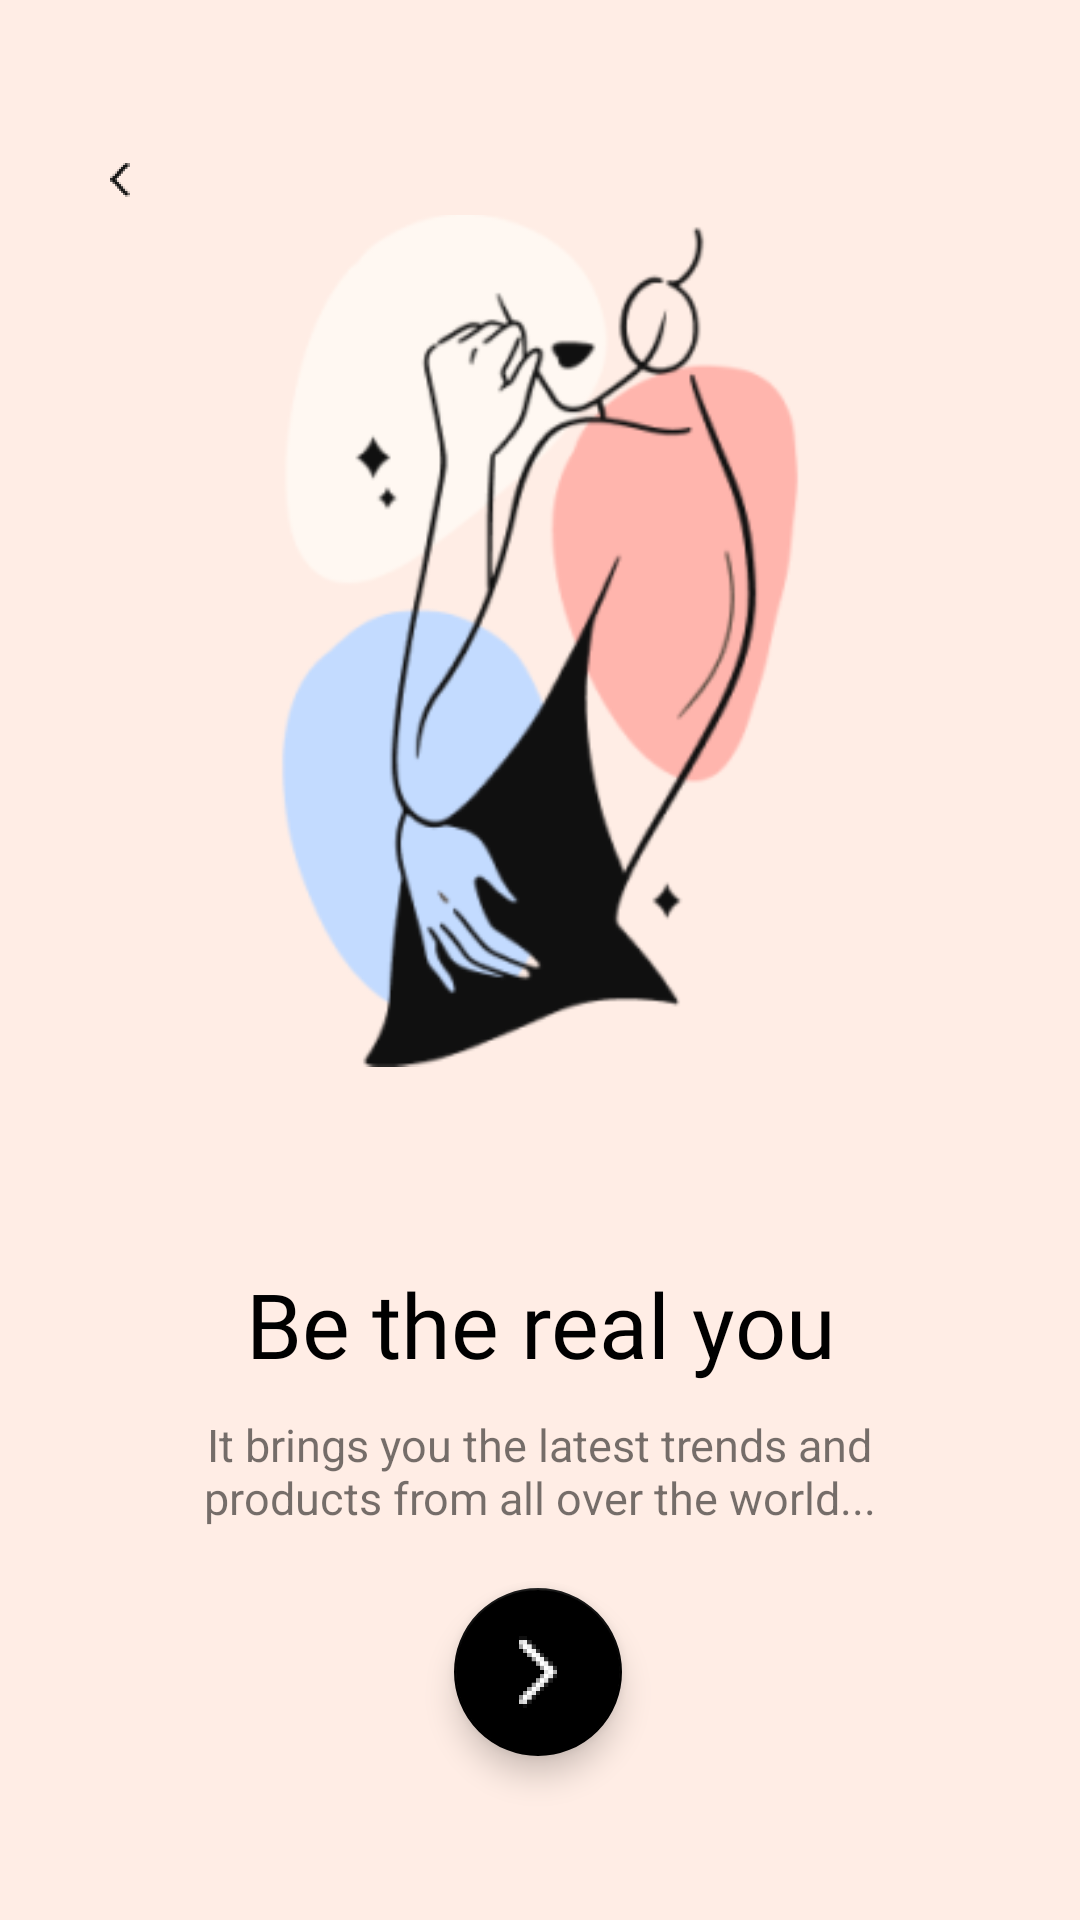

Named icons in this screenshot (1080 × 1920) and their bounding boxes, (x1, y1, x2, y2):
back: (110, 163, 130, 197)
fab: (454, 1588, 622, 1756)
